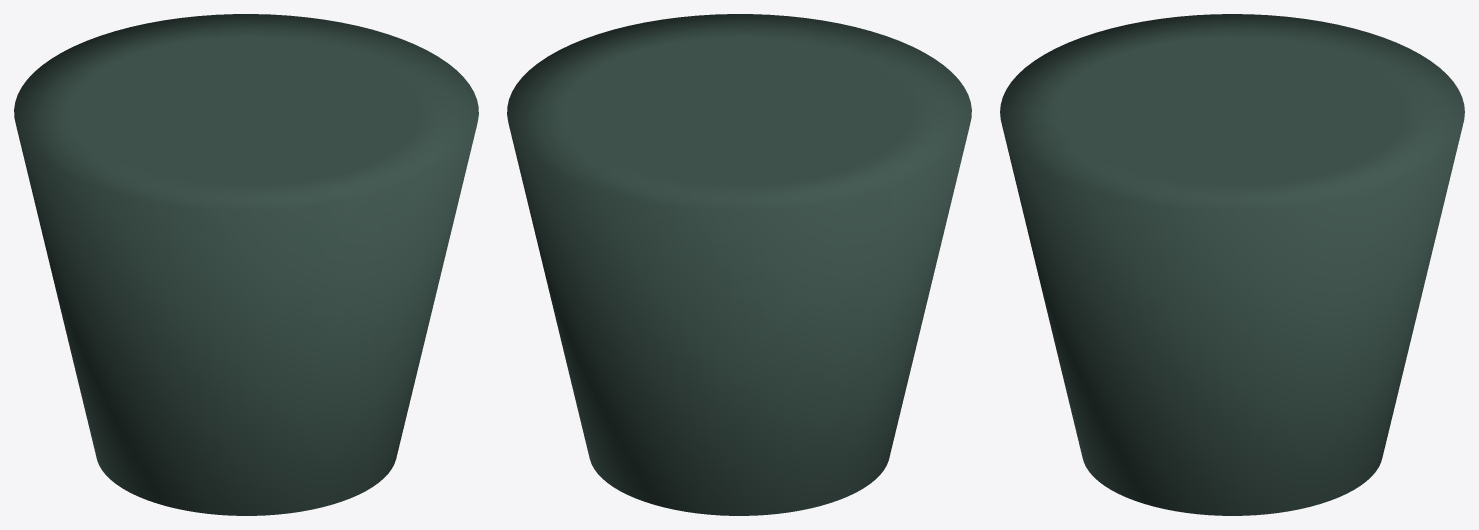
The model's file is BucketWater.fbx.
3 renders of one model, left to right at view 1: azimuth 30°, elevation 25°; view 2: azimuth 150°, elevation 25°; view 3: azimuth 270°, elevation 25°, orthographic.
Parts seen in each view (by area): view 1: BucketWater; view 2: BucketWater; view 3: BucketWater.
Boxes of the visible parts, <box> form: BucketWater: <box>14,14,478,515</box>; BucketWater: <box>507,14,971,515</box>; BucketWater: <box>1000,14,1464,515</box>.
Bounding box in the file's own units: 0.278 × 0.2244 × 0.278.
1 material, 1 textured.
